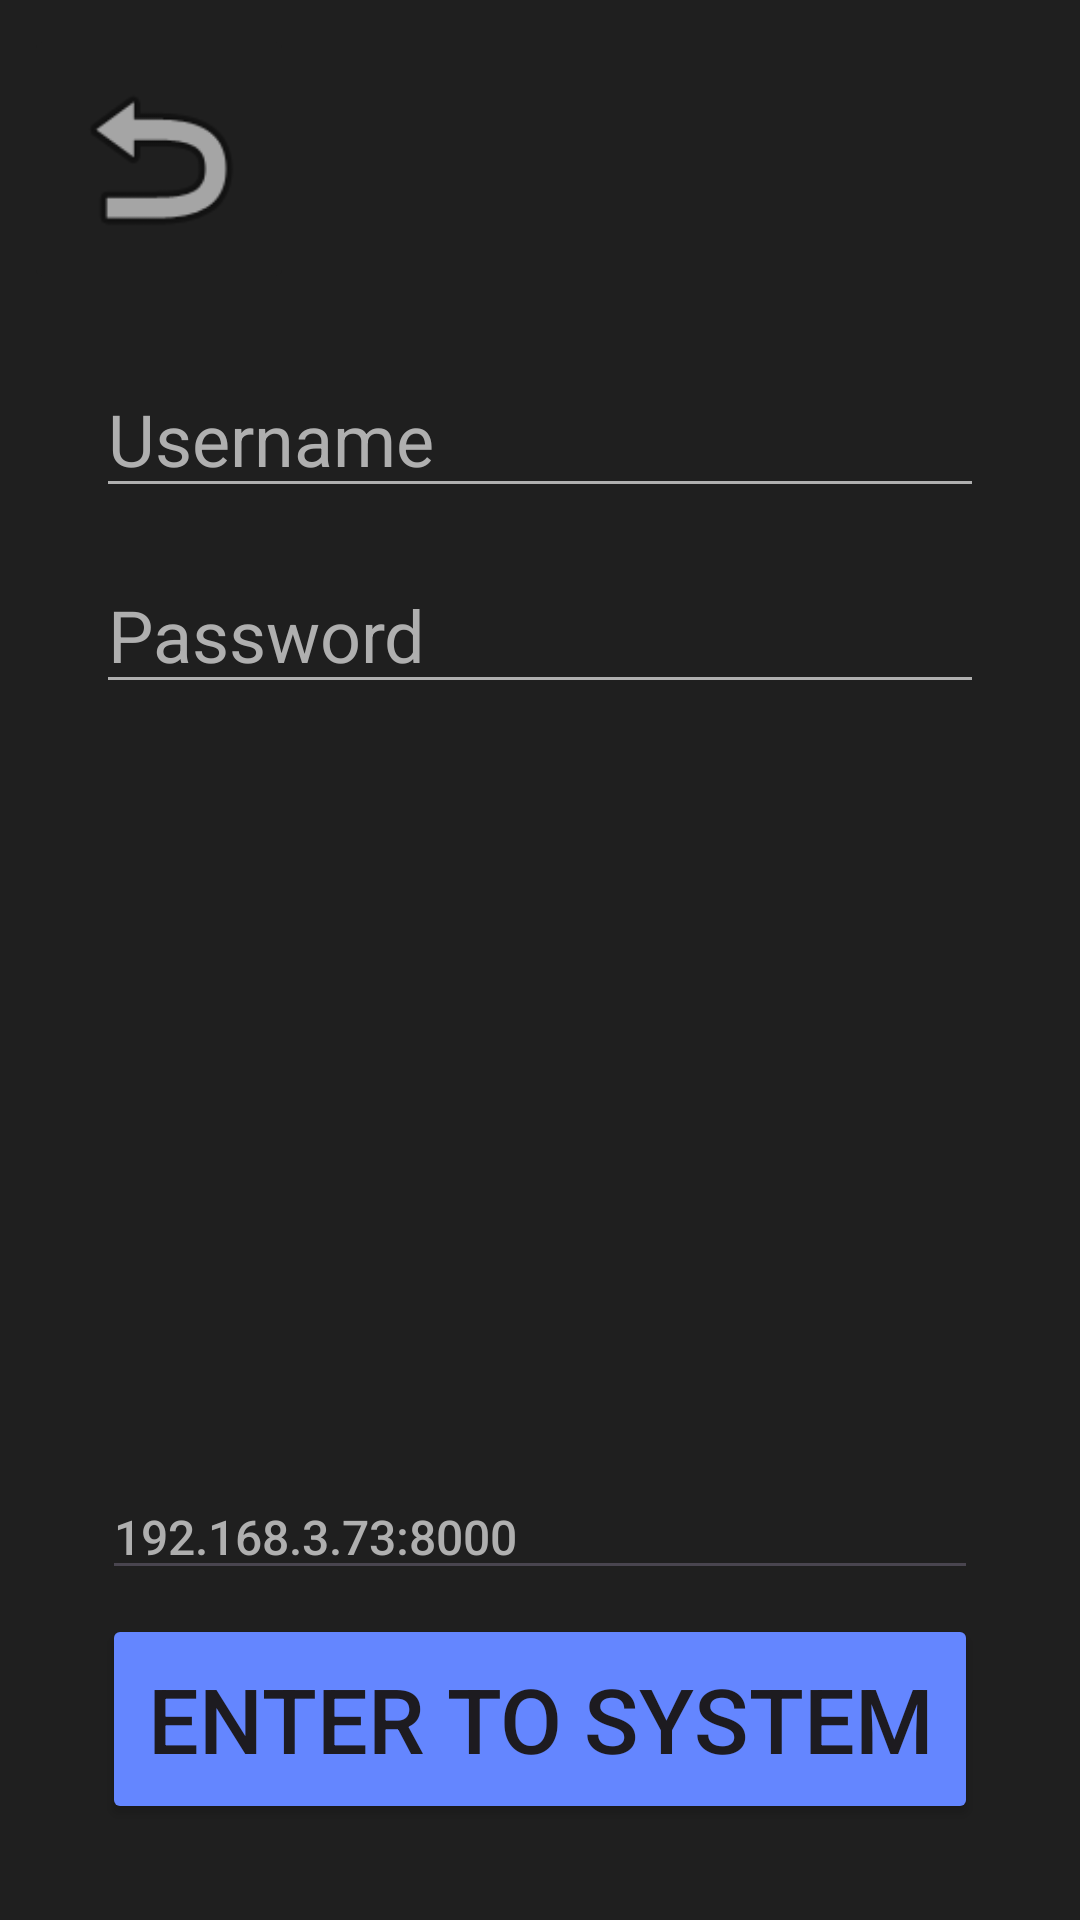

Where icons sit on this 1080px×1920px app screen, as (x1, y1, x2, y2):
revert: (97, 102, 227, 219)
